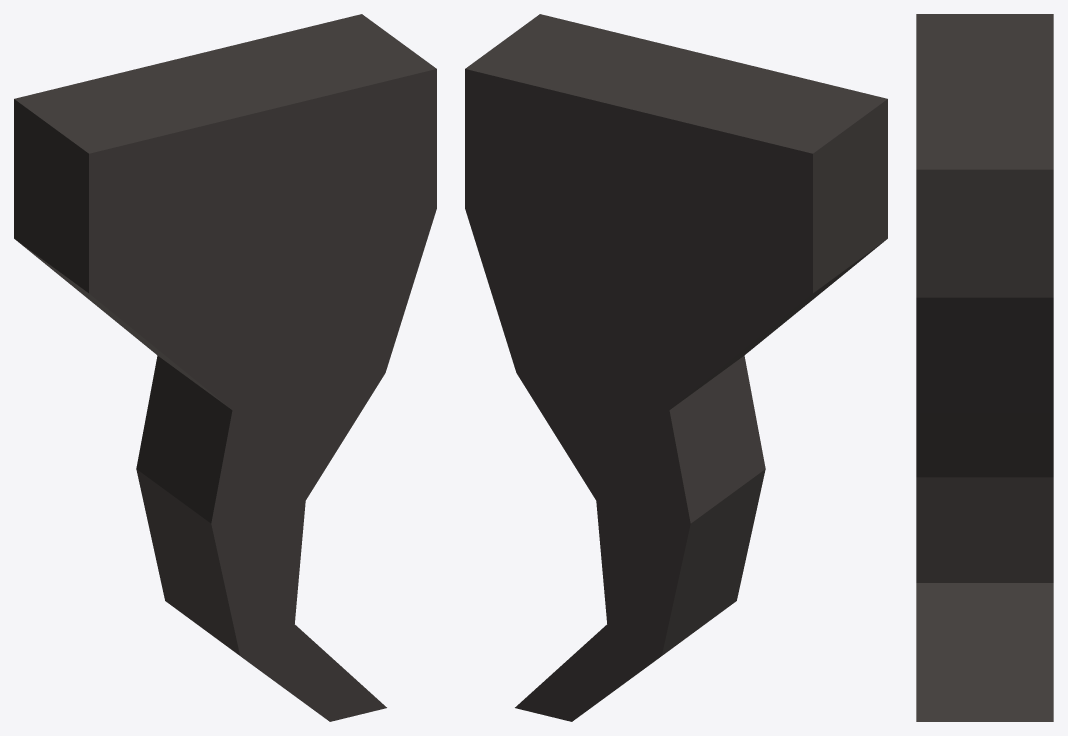
File: Pistol5_06_3.fbx
3 renders of one model, left to right at view 1: azimuth 30°, elevation 25°; view 2: azimuth 150°, elevation 25°; view 3: azimuth 270°, elevation 25°, orthographic. The views are drawn at different scales.
Visible parts, largest first — view 1: Pistol5_06_3; view 2: Pistol5_06_3; view 3: Pistol5_06_3.
Boxes of the visible parts, bbox=[...] form: Pistol5_06_3: bbox=[14, 14, 436, 721]; Pistol5_06_3: bbox=[465, 14, 887, 721]; Pistol5_06_3: bbox=[916, 14, 1053, 721].
Bounding box in the file's own units: 0.0226 × 0.0389 × 0.00844.
